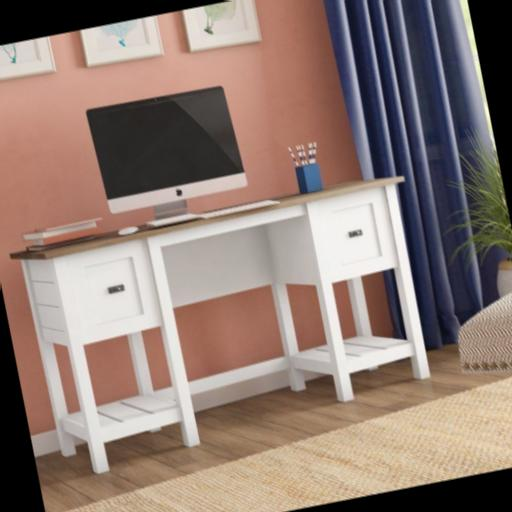chair: (447, 280, 512, 473)
desk: (9, 172, 447, 481)
wall: (0, 0, 399, 434)
